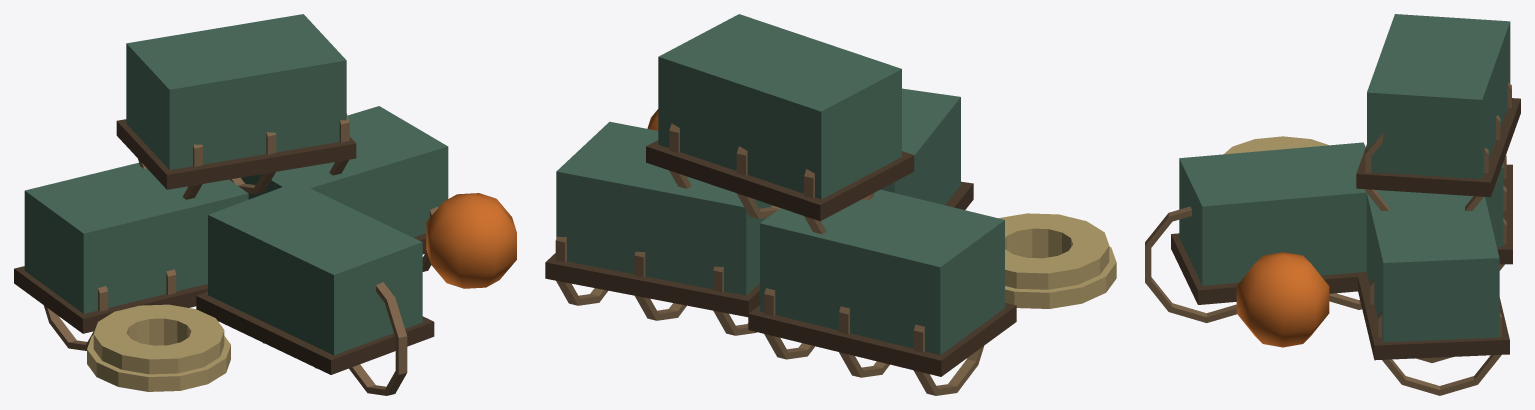
File: hb_lobster_pots.glb
The picture shows the model from 3 angles, left to right: view 1: azimuth 30°, elevation 25°; view 2: azimuth 150°, elevation 25°; view 3: azimuth 270°, elevation 25°; orthographic projection. The views are drawn at different scales.
Parts seen in each view (by area): view 1: hb_lobster_pots; view 2: hb_lobster_pots; view 3: hb_lobster_pots.
Boxes of the visible parts, box(x1,y1,x2,y2) form: hb_lobster_pots: box(14, 14, 516, 395); hb_lobster_pots: box(545, 14, 1116, 395); hb_lobster_pots: box(1145, 14, 1520, 395).
Bounding box in the file's own units: 1.46 × 0.87 × 1.16.
